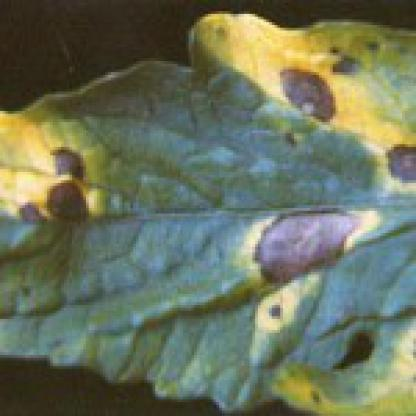tomato early blight leaf: (3, 17, 413, 397)
